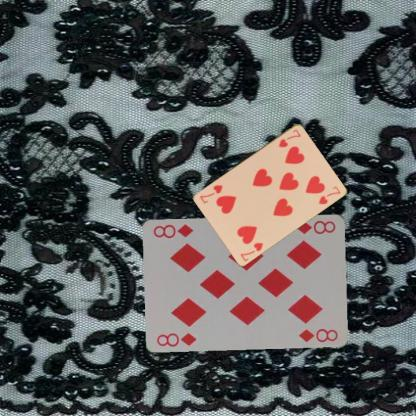7h: (276, 126, 302, 148), (238, 240, 264, 262)
8d: (154, 330, 198, 348), (294, 218, 338, 235)
